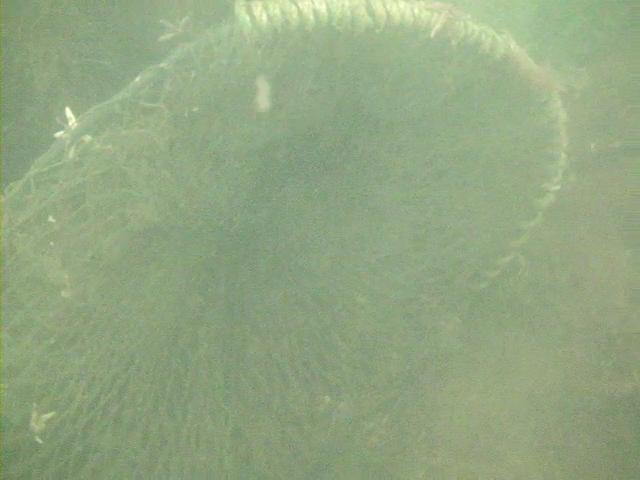circular fish trap: (0, 0, 567, 480)
